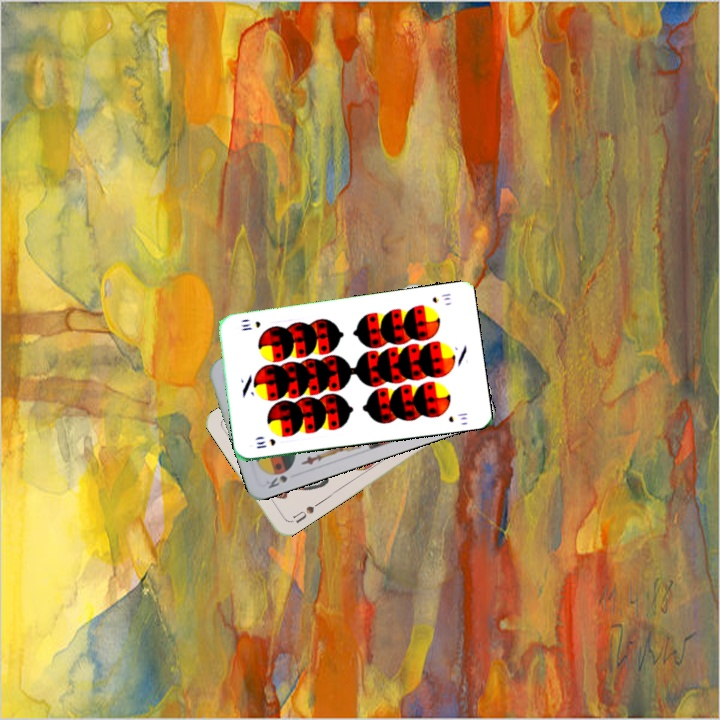S10: (252, 435, 278, 451), (428, 289, 453, 305)
SK: (262, 464, 295, 491)
SU: (289, 501, 317, 526)
